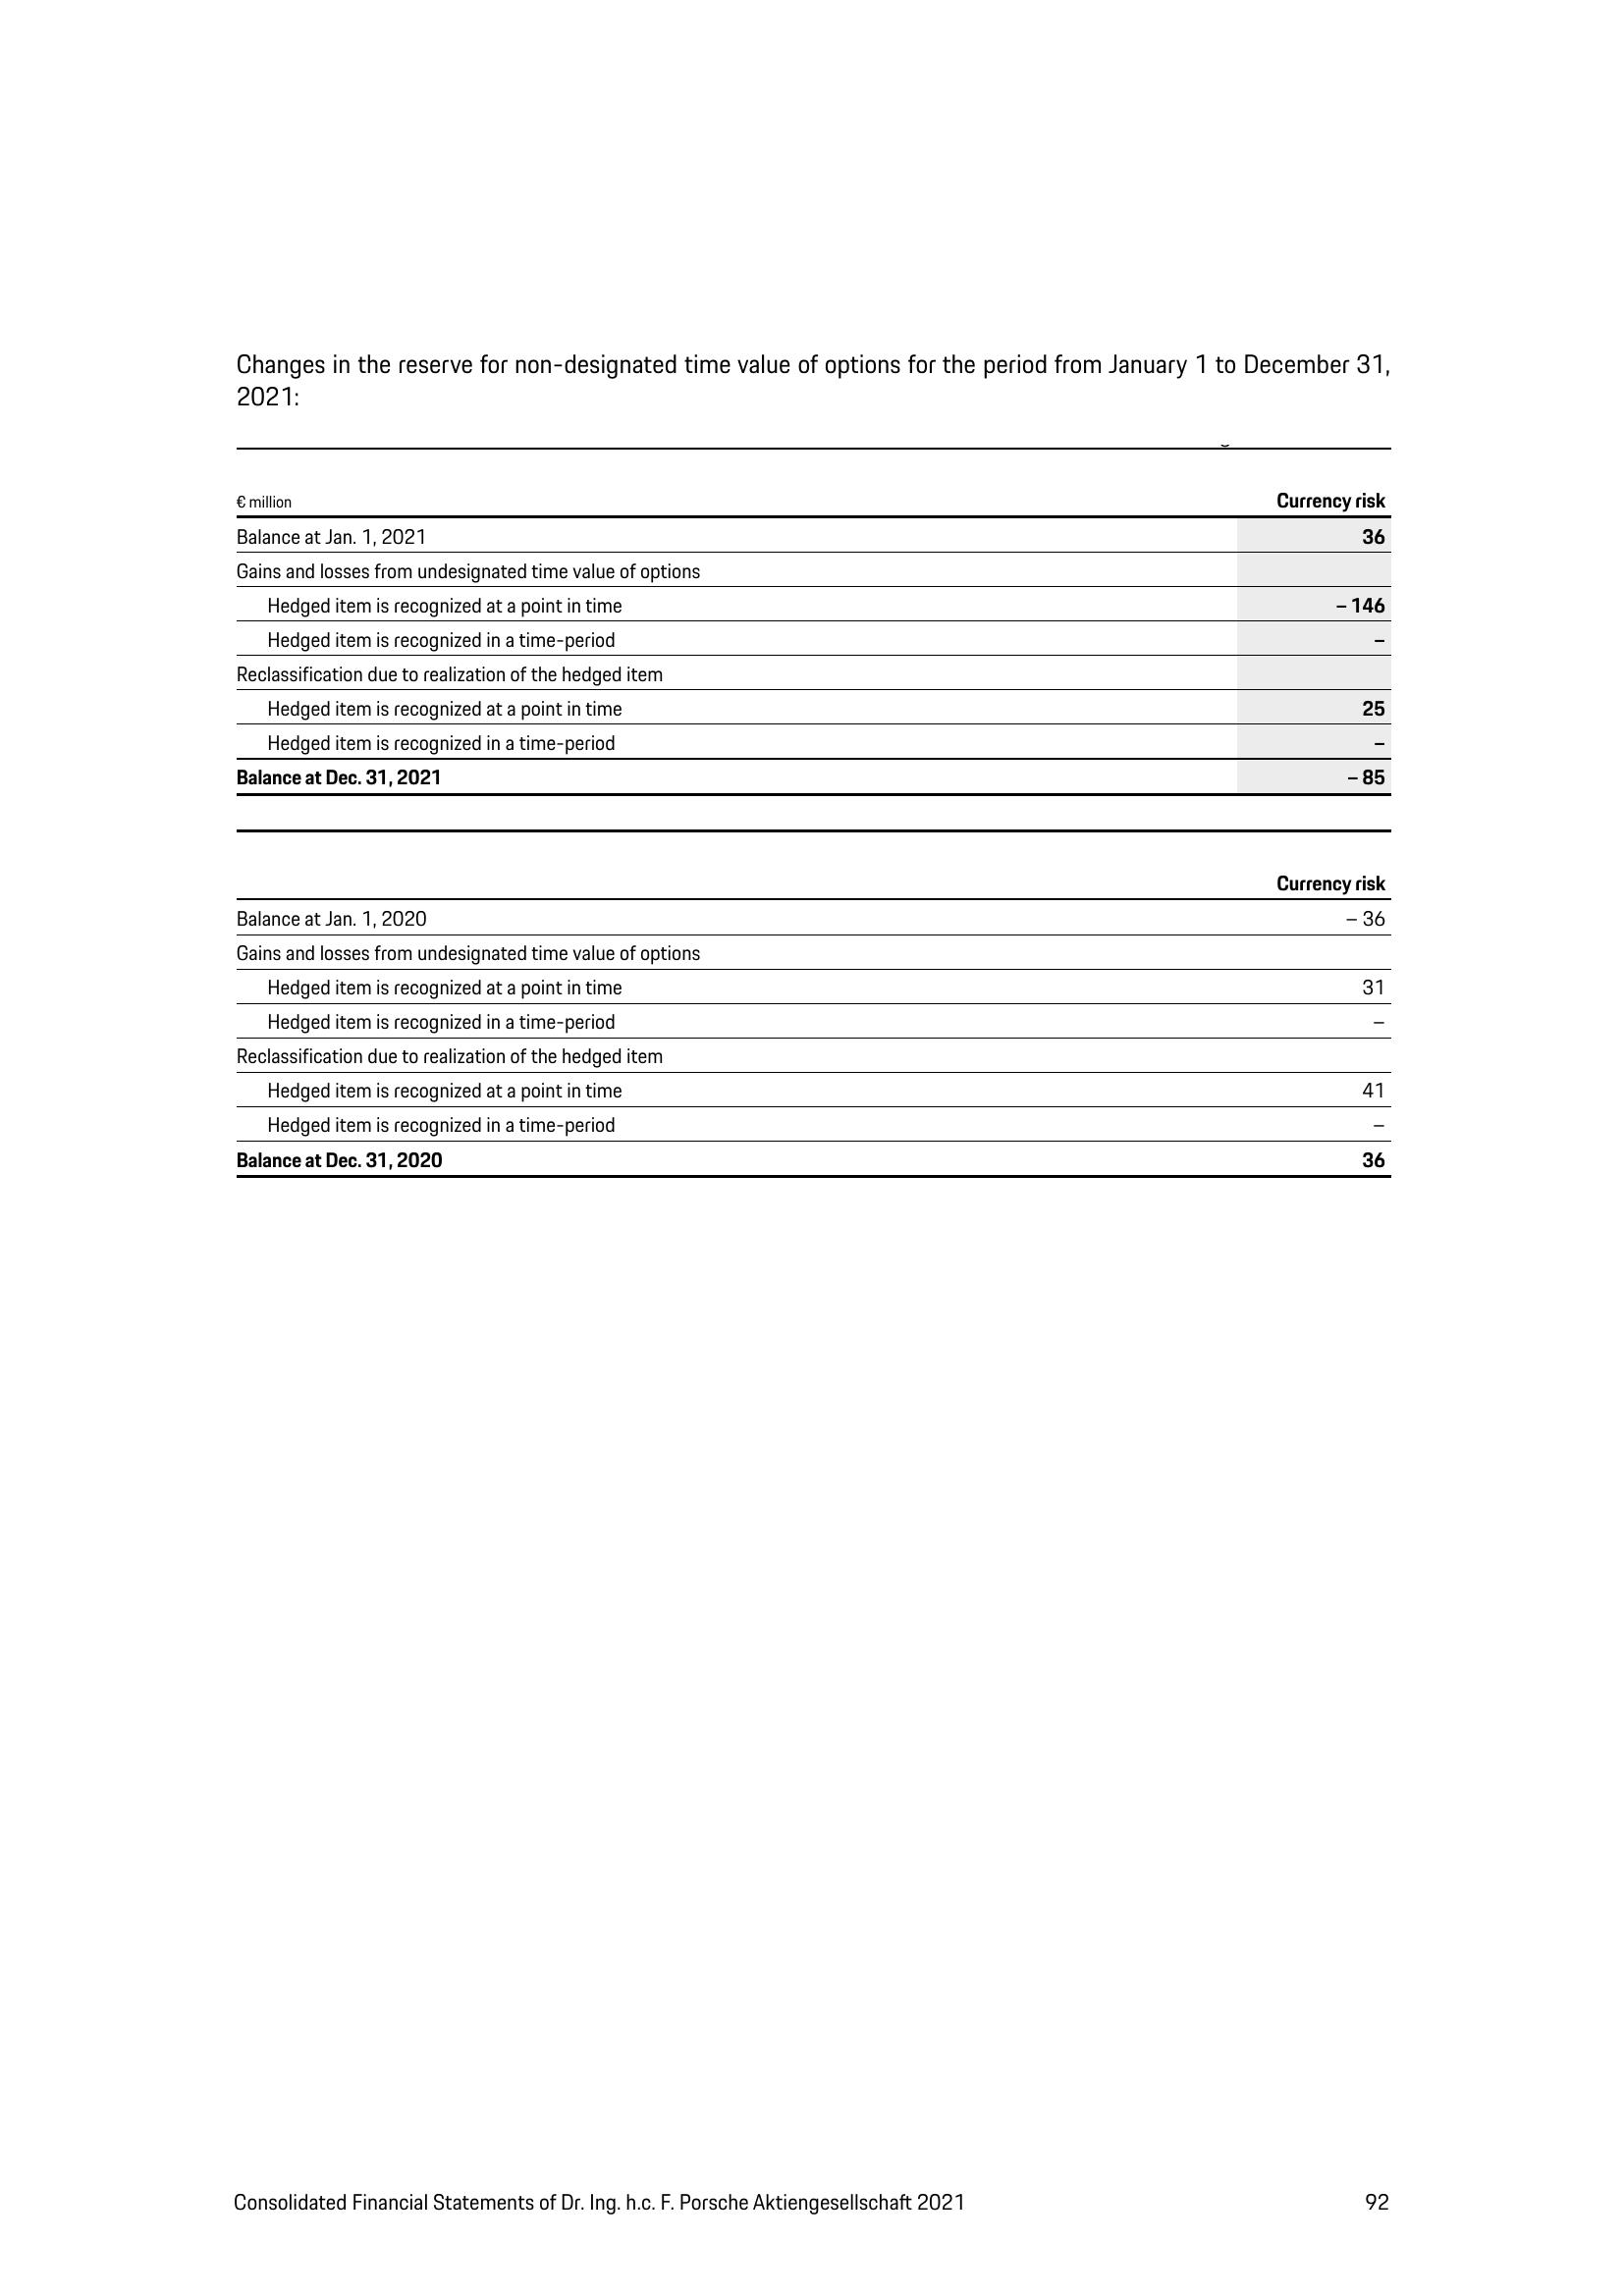Footer: (0, 2152, 1624, 2296)
Header: (0, 0, 1624, 228)
Table: (199, 425, 1429, 792), (195, 838, 1411, 1200)
